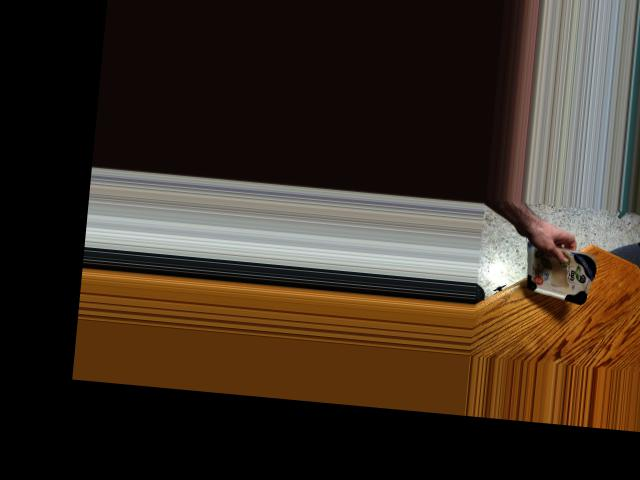cheese: (520, 235, 600, 306)
